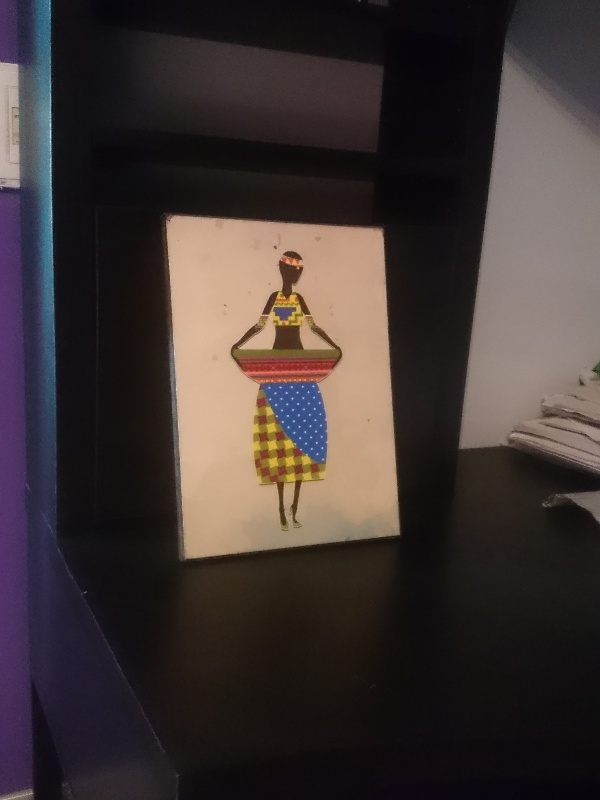my image: (163, 218, 397, 560)
